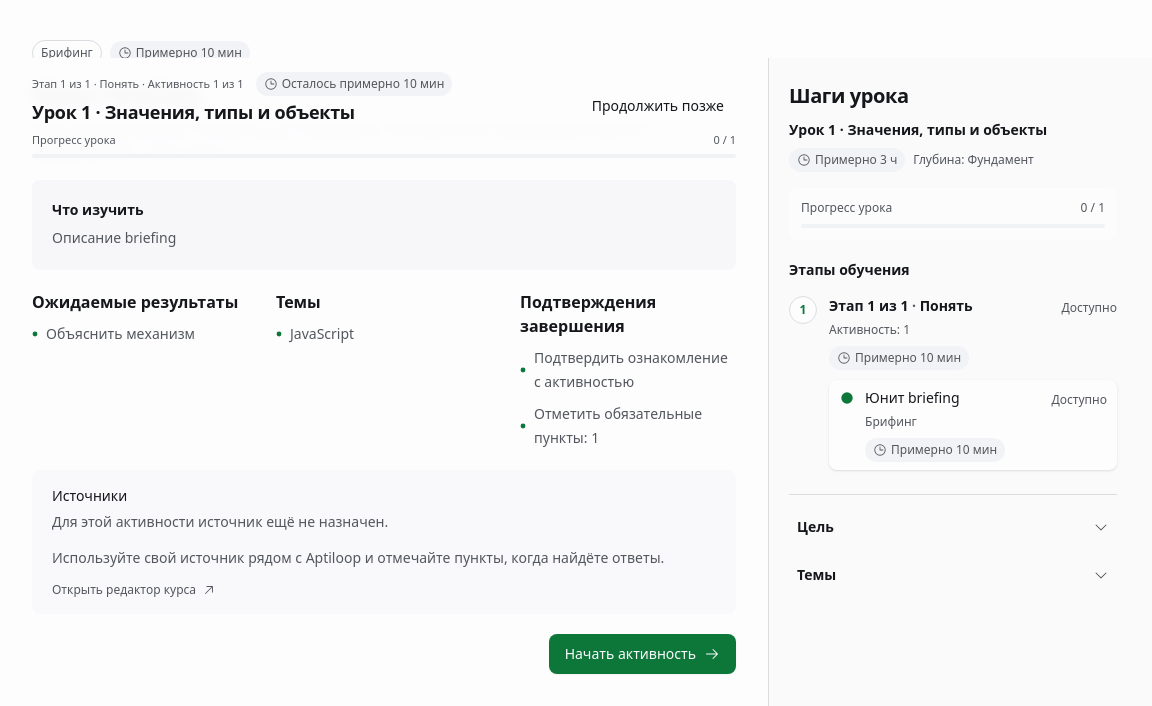
Test: guided versioned session › completes briefing with one click, without mandatory checkboxes
The image size is (1152, 706).
(page scrolled)
Step 1. Click the button "Начать активность" → (642, 654), box 549,634 -> 736,674
(page scrolled)
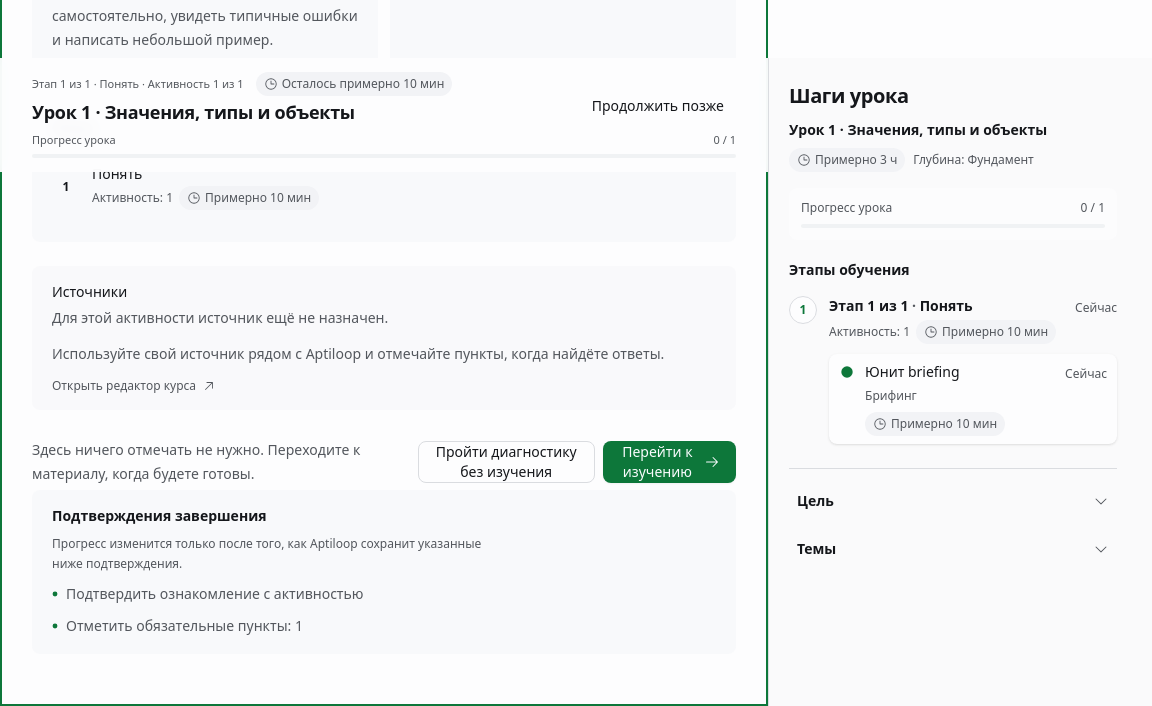
Expected: the heading "План" is shown, 52,117 -> 94,139
Result: the button "Перейти к изучению" is enabled
Step 2. Click the button "Перейти к изучению" → (669, 462), box 603,441 -> 736,483
(page scrolled)
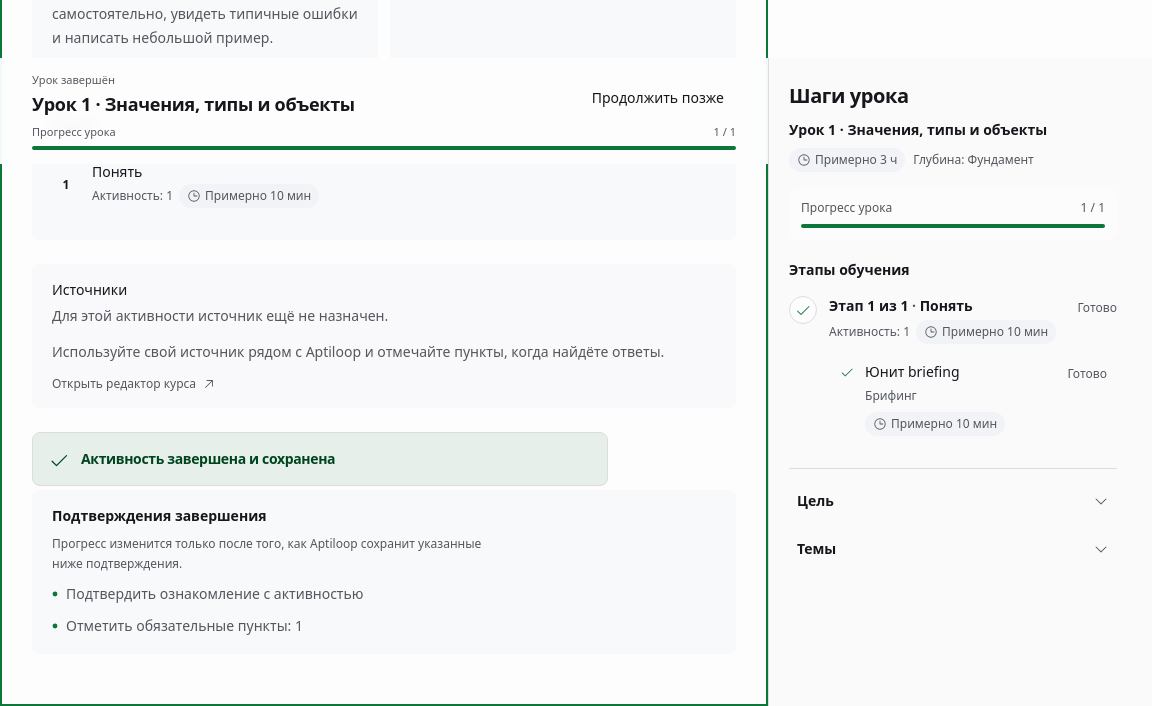
Result: the text "Активность завершена и сохранена" is shown at 81,449 -> 335,468
